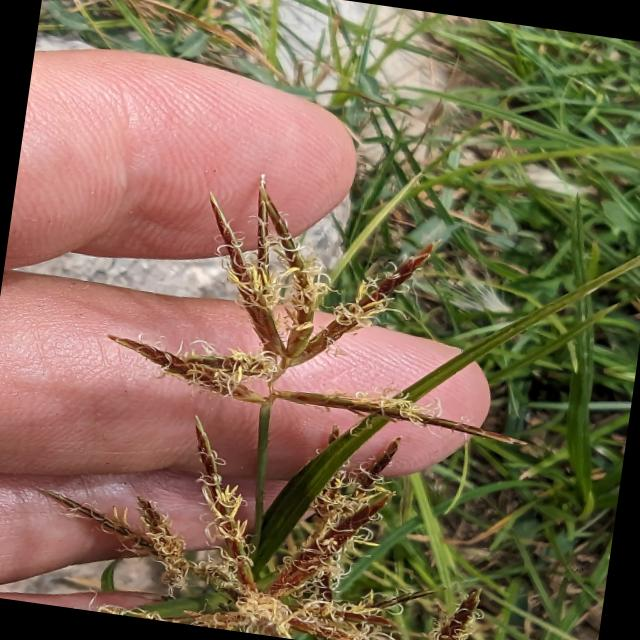cyperus: (31, 137, 559, 640)
